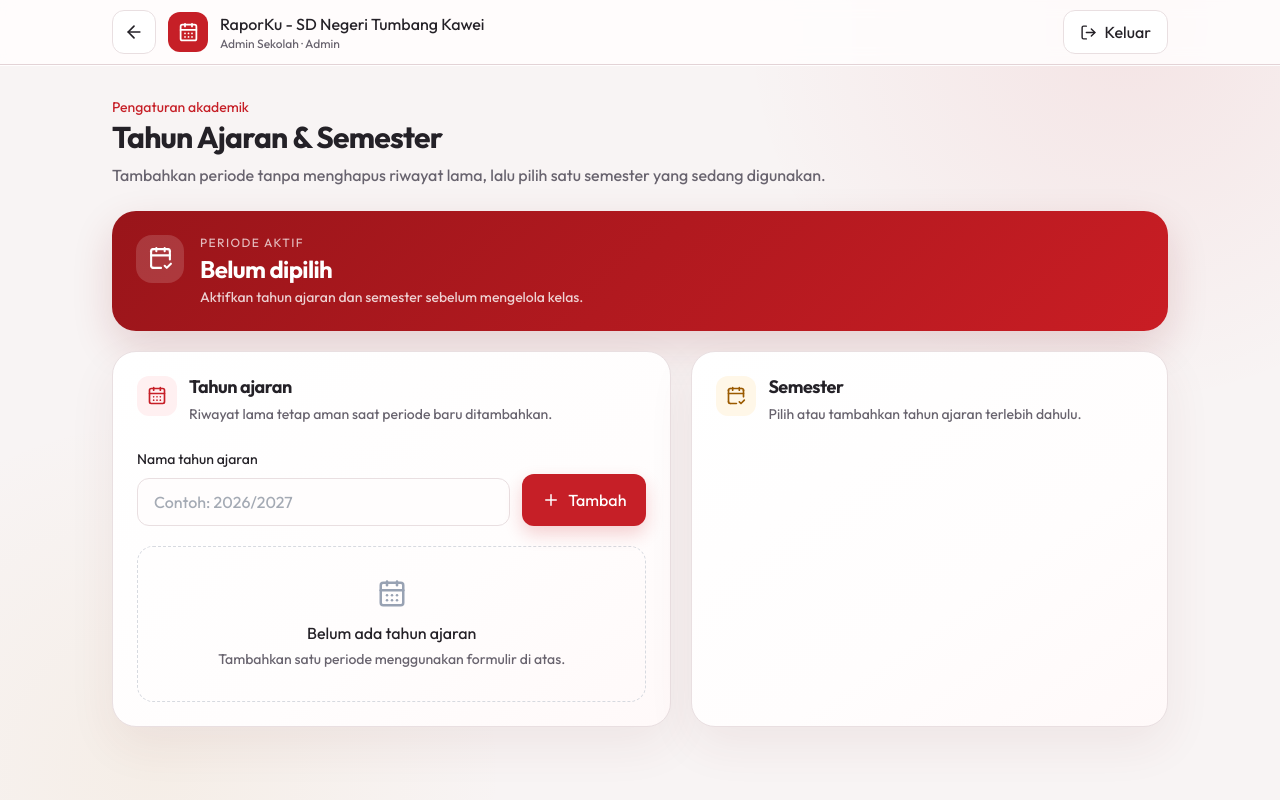
Test: AcademicPeriodsPage › menambahkan tahun ajaran lalu memberi arahan aktivasi
Step 1. Type "2026/2027" into the field labelled "Nama tahun ajaran" → (324, 502), box x1=137 y1=478 x2=510 y2=526
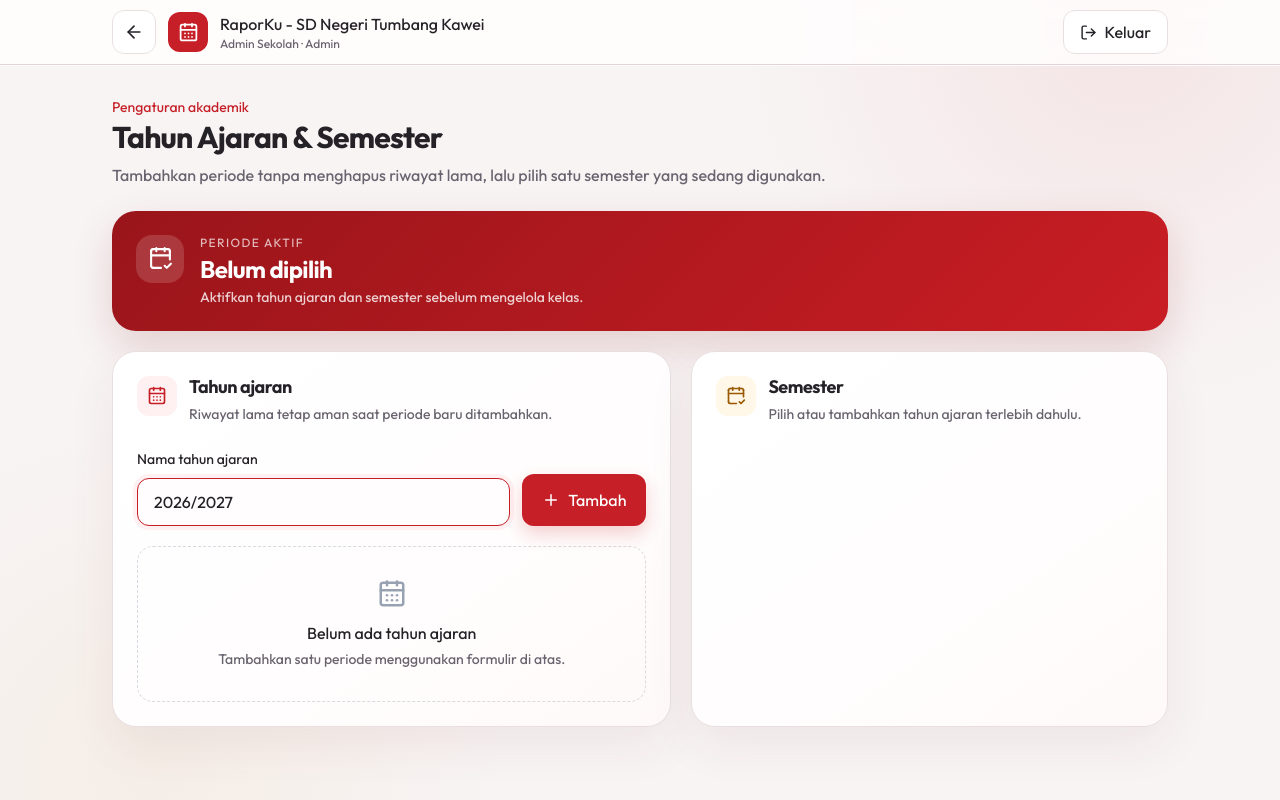
Step 2. Click the button "Tambah" → (584, 500), box x1=522 y1=474 x2=646 y2=526
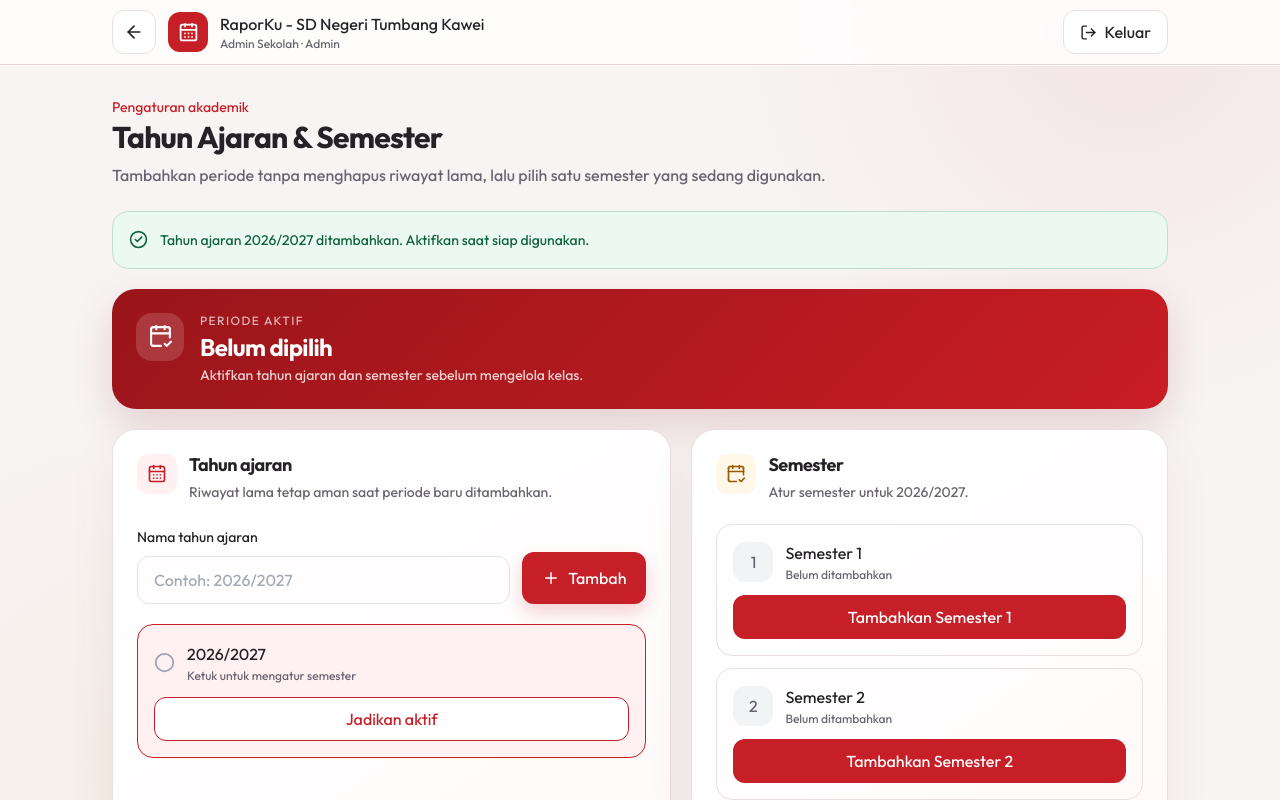
Check: the text "ditambahkan. Aktifkan saat siap digunakan" is shown, box x1=160 y1=231 x2=589 y2=249
